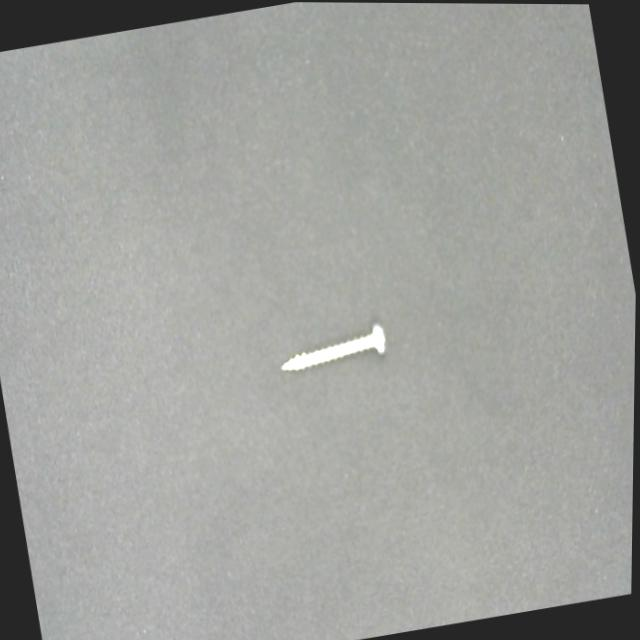SheetMetalScrew: (275, 321, 391, 377)
